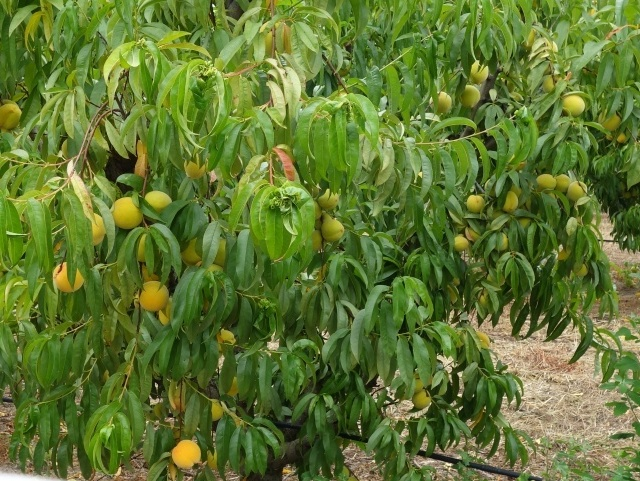peach: (108, 194, 147, 234), (49, 257, 85, 298), (136, 278, 170, 319), (141, 185, 178, 216), (168, 438, 203, 470), (177, 236, 205, 273), (1, 98, 24, 135), (181, 153, 210, 182), (454, 83, 483, 112), (560, 92, 589, 119), (599, 103, 624, 134), (320, 216, 346, 244), (428, 90, 454, 118), (317, 186, 342, 212), (533, 170, 558, 196), (468, 57, 492, 83), (565, 180, 590, 204), (308, 228, 331, 253), (412, 386, 434, 412), (465, 190, 487, 215), (208, 396, 227, 423), (449, 231, 470, 255), (499, 189, 520, 213), (552, 171, 573, 195), (542, 72, 563, 95), (409, 373, 428, 396), (572, 259, 592, 280)
